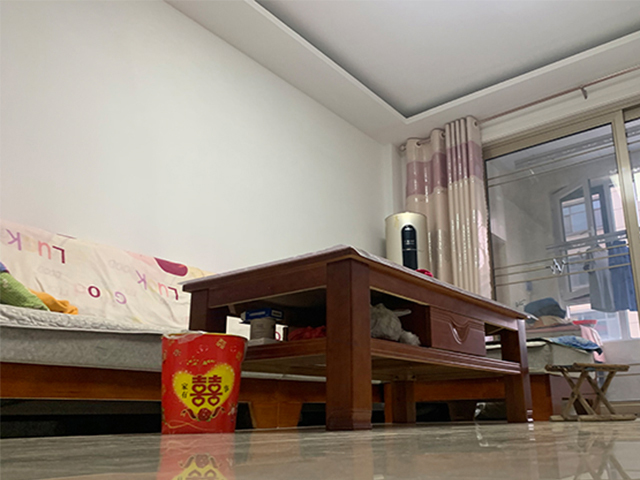curtain: (427, 112, 493, 297)
sofa: (1, 219, 190, 404)
stool: (546, 361, 640, 424)
table: (182, 245, 537, 432)
trashcan: (159, 331, 249, 435)
